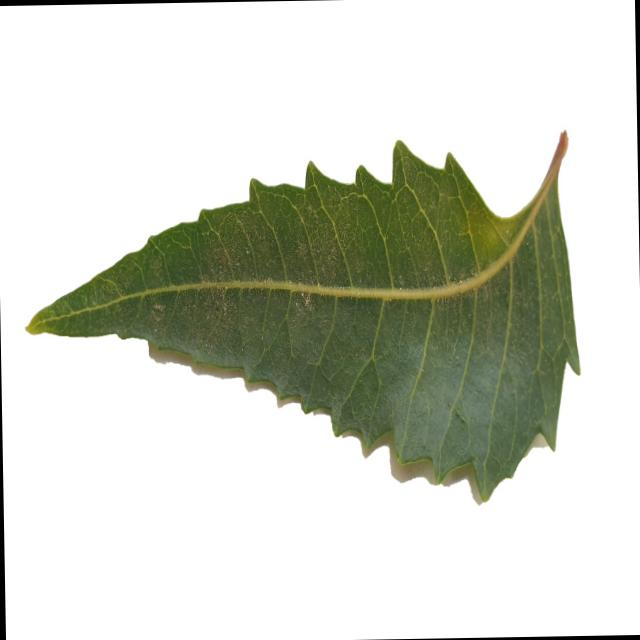Medicinal-Neem: (27, 120, 583, 507)
